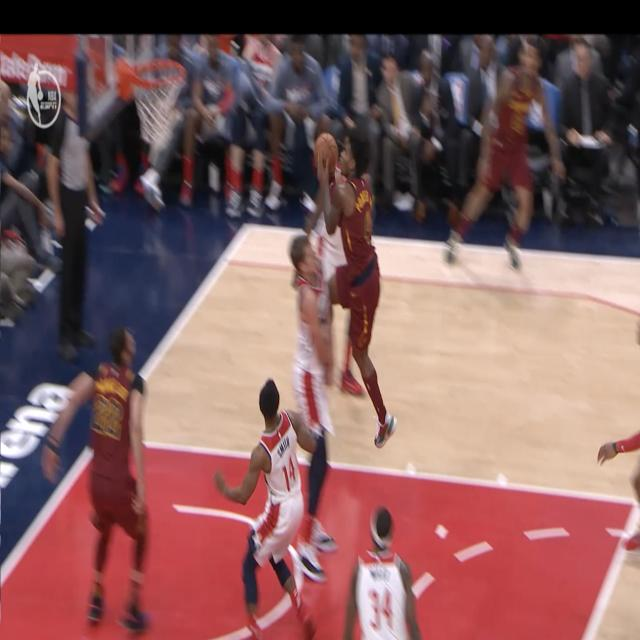foul: (269, 123, 418, 568)
no foul: (219, 362, 338, 640), (351, 484, 459, 640)
